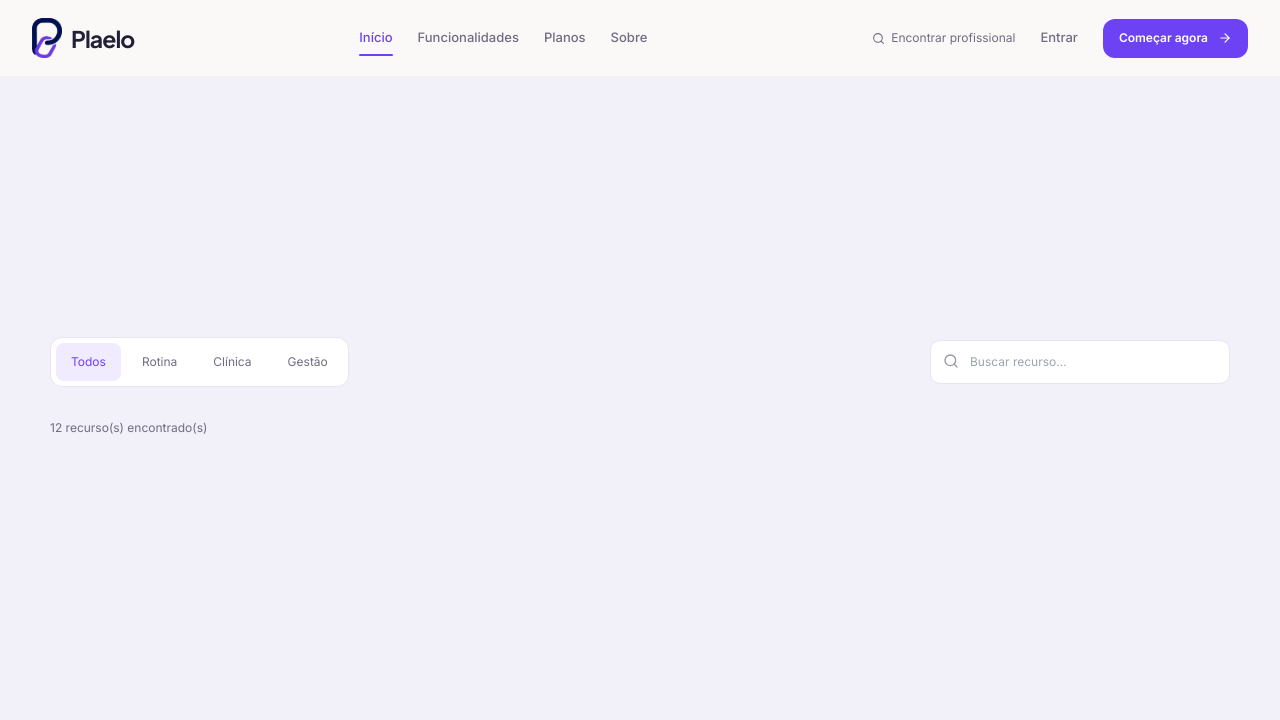
Test case: Site público da Plaelo › filtra o catálogo por área e por busca sem acentos
(page scrolled)
Click the button "Gestão" at (308, 362), box [273,343,343,381]
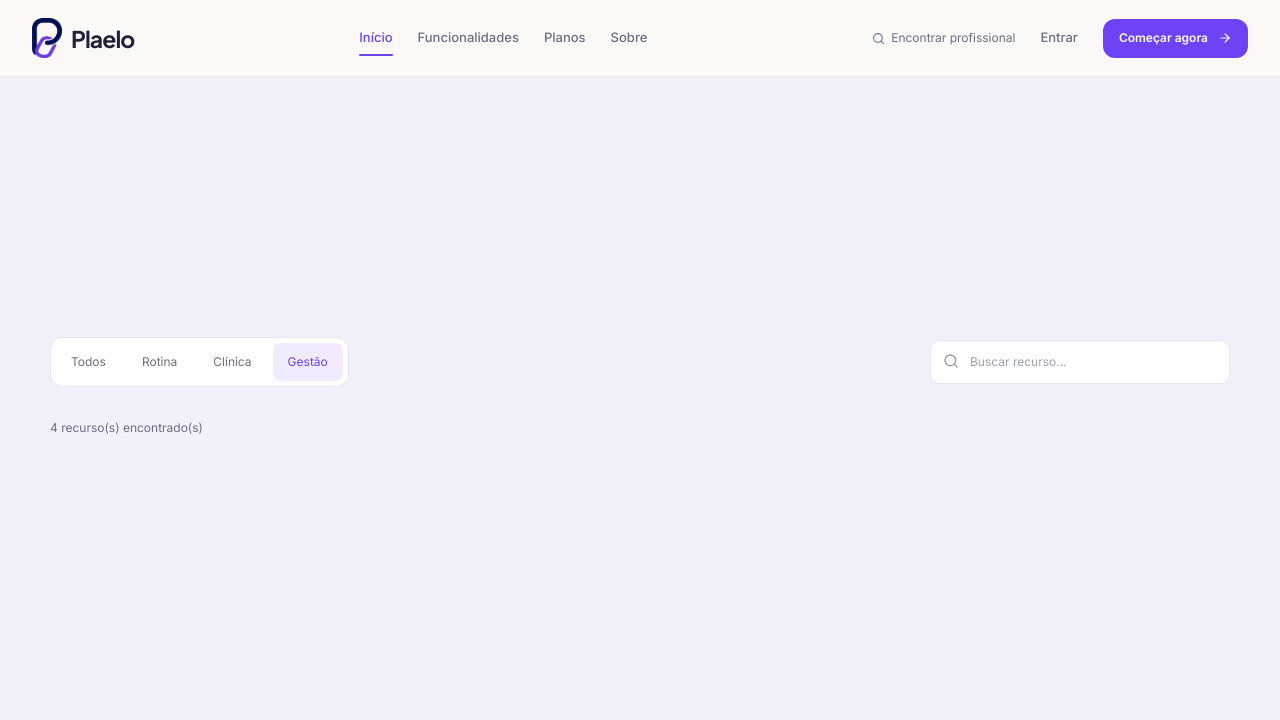
Type "permissoes" into the field named "Buscar funcionalidade" at (1080, 362), box [930,340,1230,384]
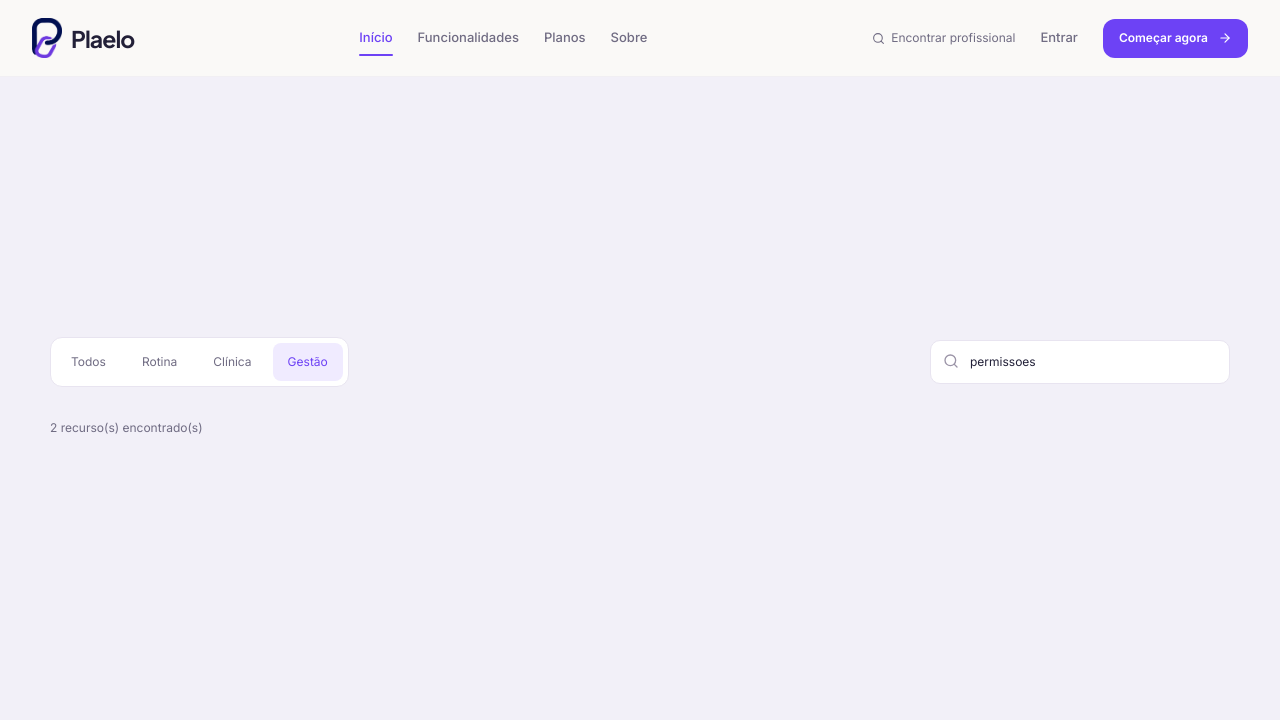
expect the heading "Agenda que acompanha você" is not shown: met
Replace the text in the field named "Buscar funcionalidade" with "não existe esse recurso" at (1080, 362), box [930,340,1230,384]
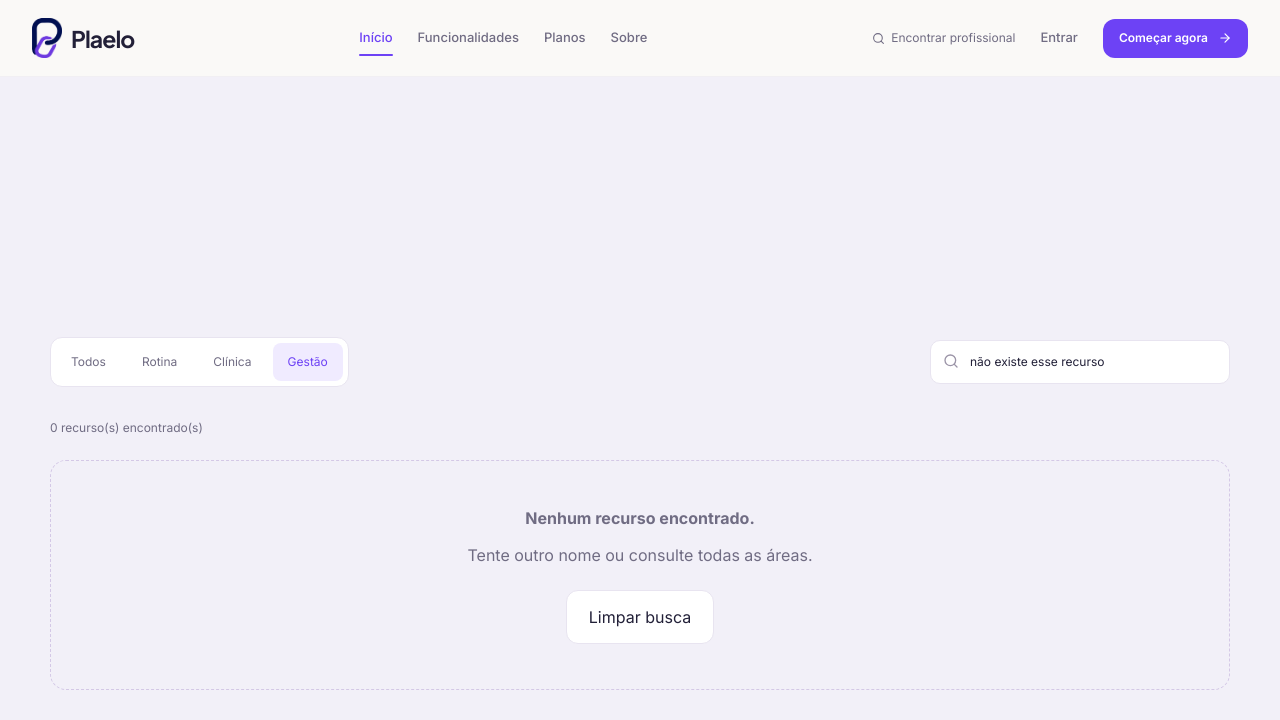
expect the text "Nenhum recurso encontrado." is shown: met, box [525,508,755,528]
Click the button "Limpar busca" at (640, 616), box [566,590,714,644]
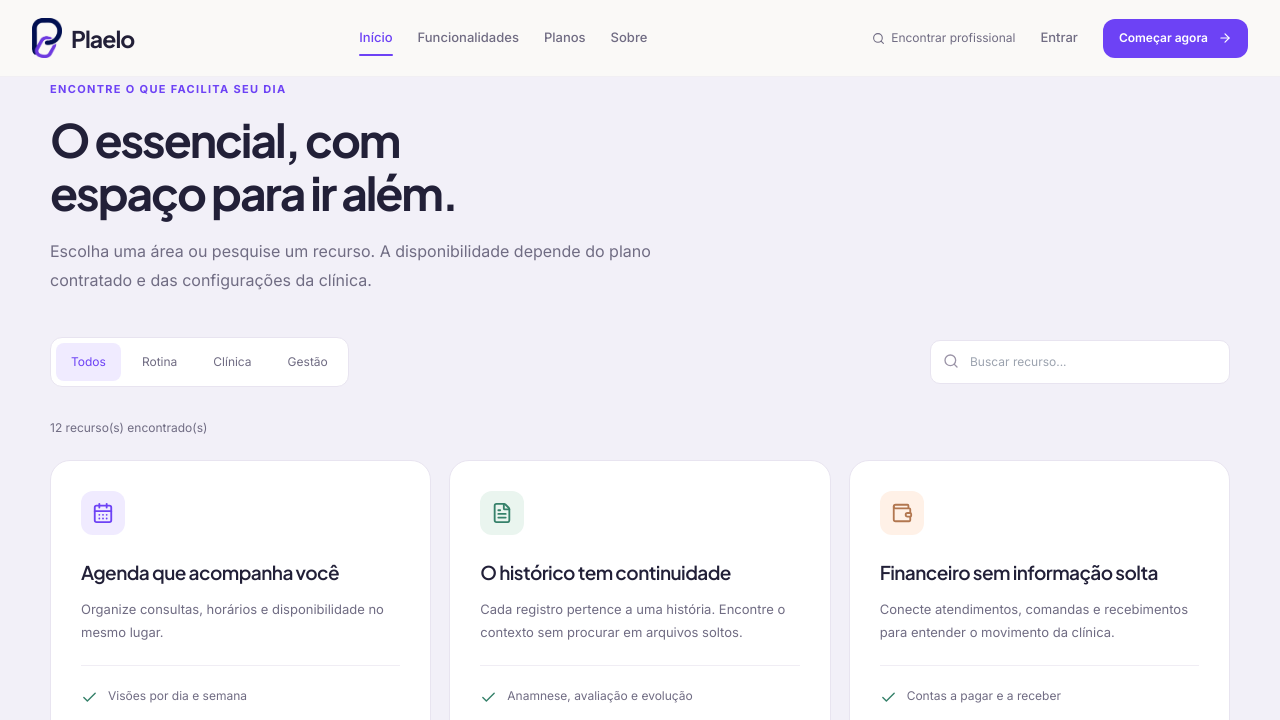
expect the heading "Agenda que acompanha você" is shown: met, box [81,560,339,584]
